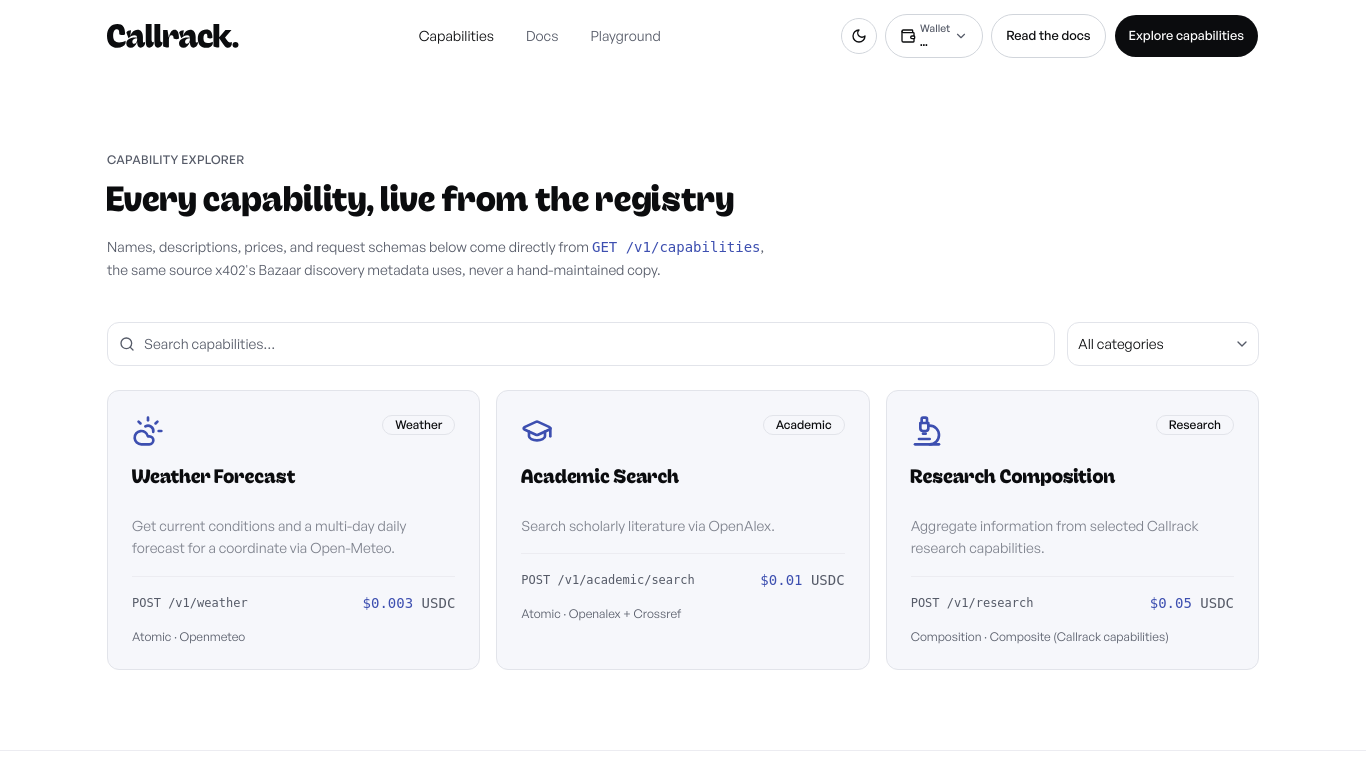
Test case: CapabilitiesPage › filters capabilities by search query
Check: the text "Weather Forecast" is shown, box [132,464,296,488]
In the field with placeholder "Search capabilities…": point(581, 344) [107,322,1055,366], type "academic"
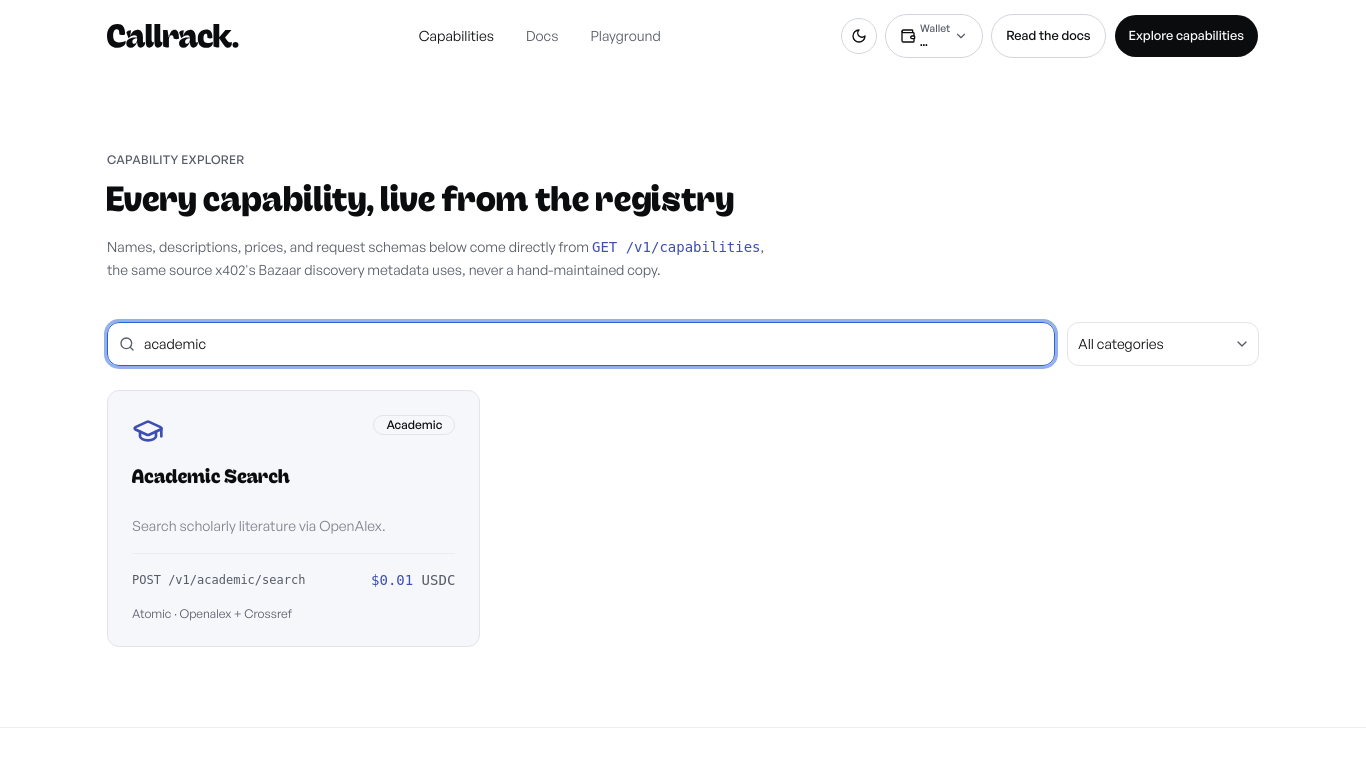
Check: the text "Academic Search" is shown, box [132,464,290,488]
Check: the link "Weather Forecast" is gone
